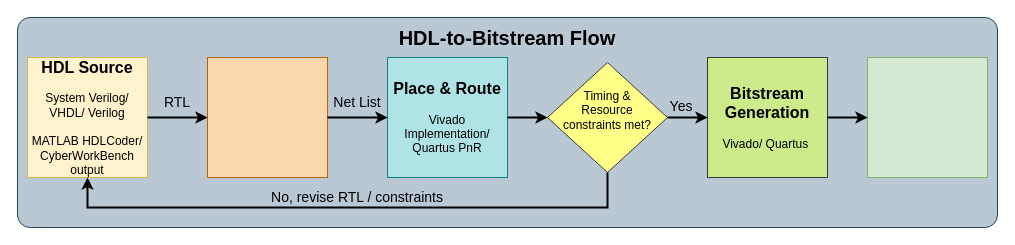
This 1015x245 diagram has some shape labels left out. The shapes that lost their labels are listed below. From the top down, each one's centre as x and y in pixels, then its label:
point 267,117: Synthesis Vivado/ Design Complier/ Quartus
point 927,117: Device Configuration JTAG / Flash / PYNQ .bit
